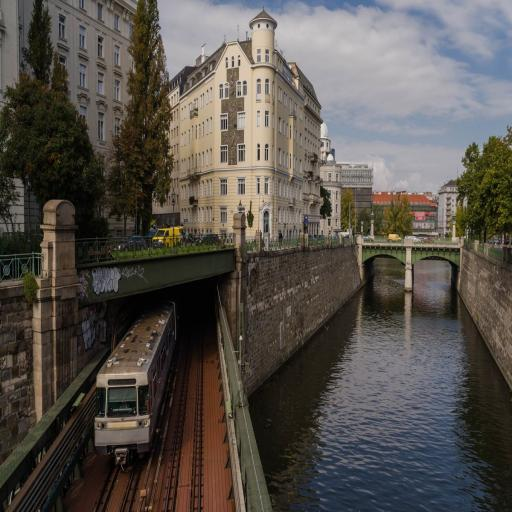Silberpfeil: (94, 295, 181, 462)
